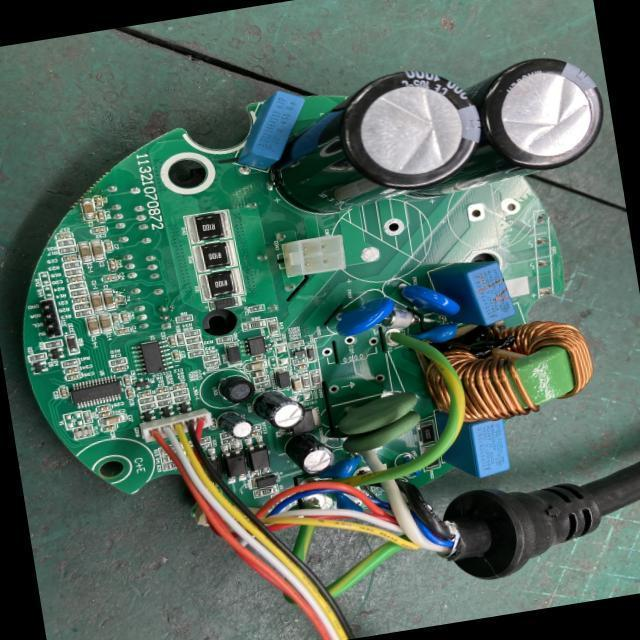damged: (114, 292, 127, 305)
